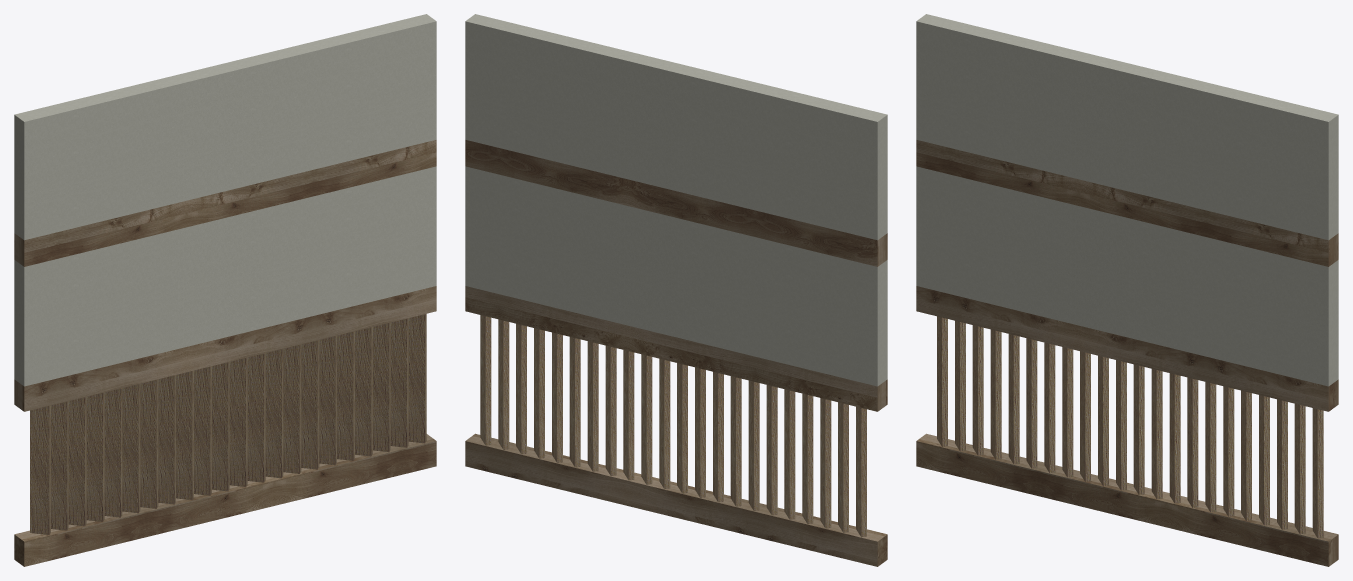
File: SM_Sun_Toilet_Wall_A.fbx
3 views of the same model, side by side, from view 1: azimuth 30°, elevation 25°; view 2: azimuth 150°, elevation 25°; view 3: azimuth 330°, elevation 25° (orthographic).
Parts seen in each view (by area): view 1: SM_Sun_Toilet_Wall_A; view 2: SM_Sun_Toilet_Wall_A; view 3: SM_Sun_Toilet_Wall_A.
Boxes of the visible parts, x1,y1,x2,y2 form: SM_Sun_Toilet_Wall_A: (14,14,436,566); SM_Sun_Toilet_Wall_A: (465,14,887,566); SM_Sun_Toilet_Wall_A: (916,14,1338,566).
Size of the model in its own units: 237 by 245 by 10.
